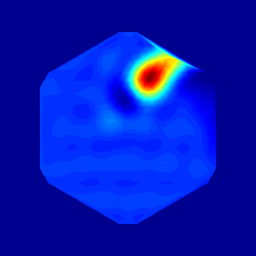ship: (109, 82, 141, 110)
wave: (129, 59, 170, 93)
